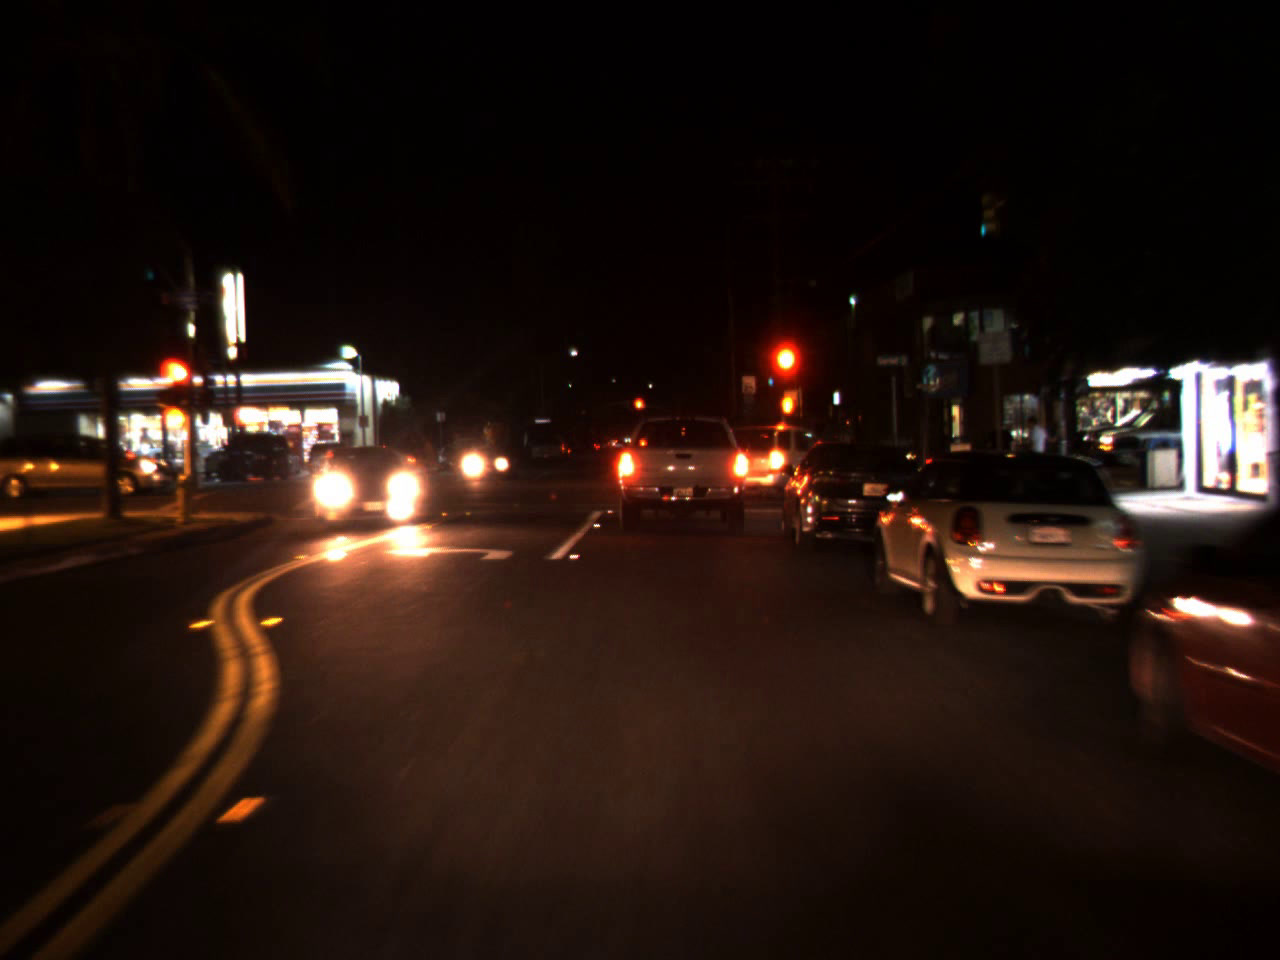stop: (153, 352, 196, 424), (768, 342, 796, 404), (632, 396, 645, 419)
